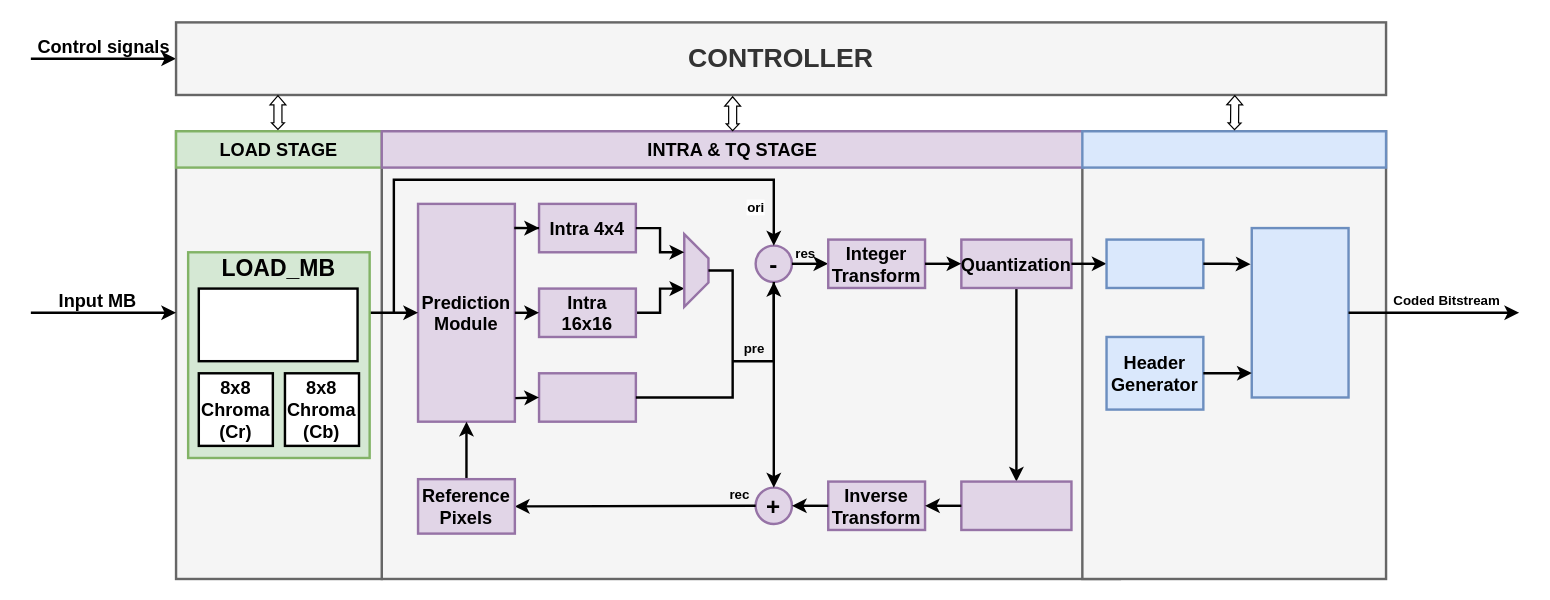
Some shapes in this 1550 by 600 pixel diagram are drawn without their labels. Here are the shapes that lost their labels. From the top down, the box of each, then its label:
(1081, 129, 1387, 168): EC STAGE
(682, 232, 709, 307): MUX
(1105, 238, 1204, 289): CAVLC
(197, 287, 358, 362): 16x16 Luma (Y)
(1250, 226, 1349, 398): Stream Generator
(537, 371, 636, 422): Chroma 8x8
(960, 480, 1072, 531): Inverse Quantization
